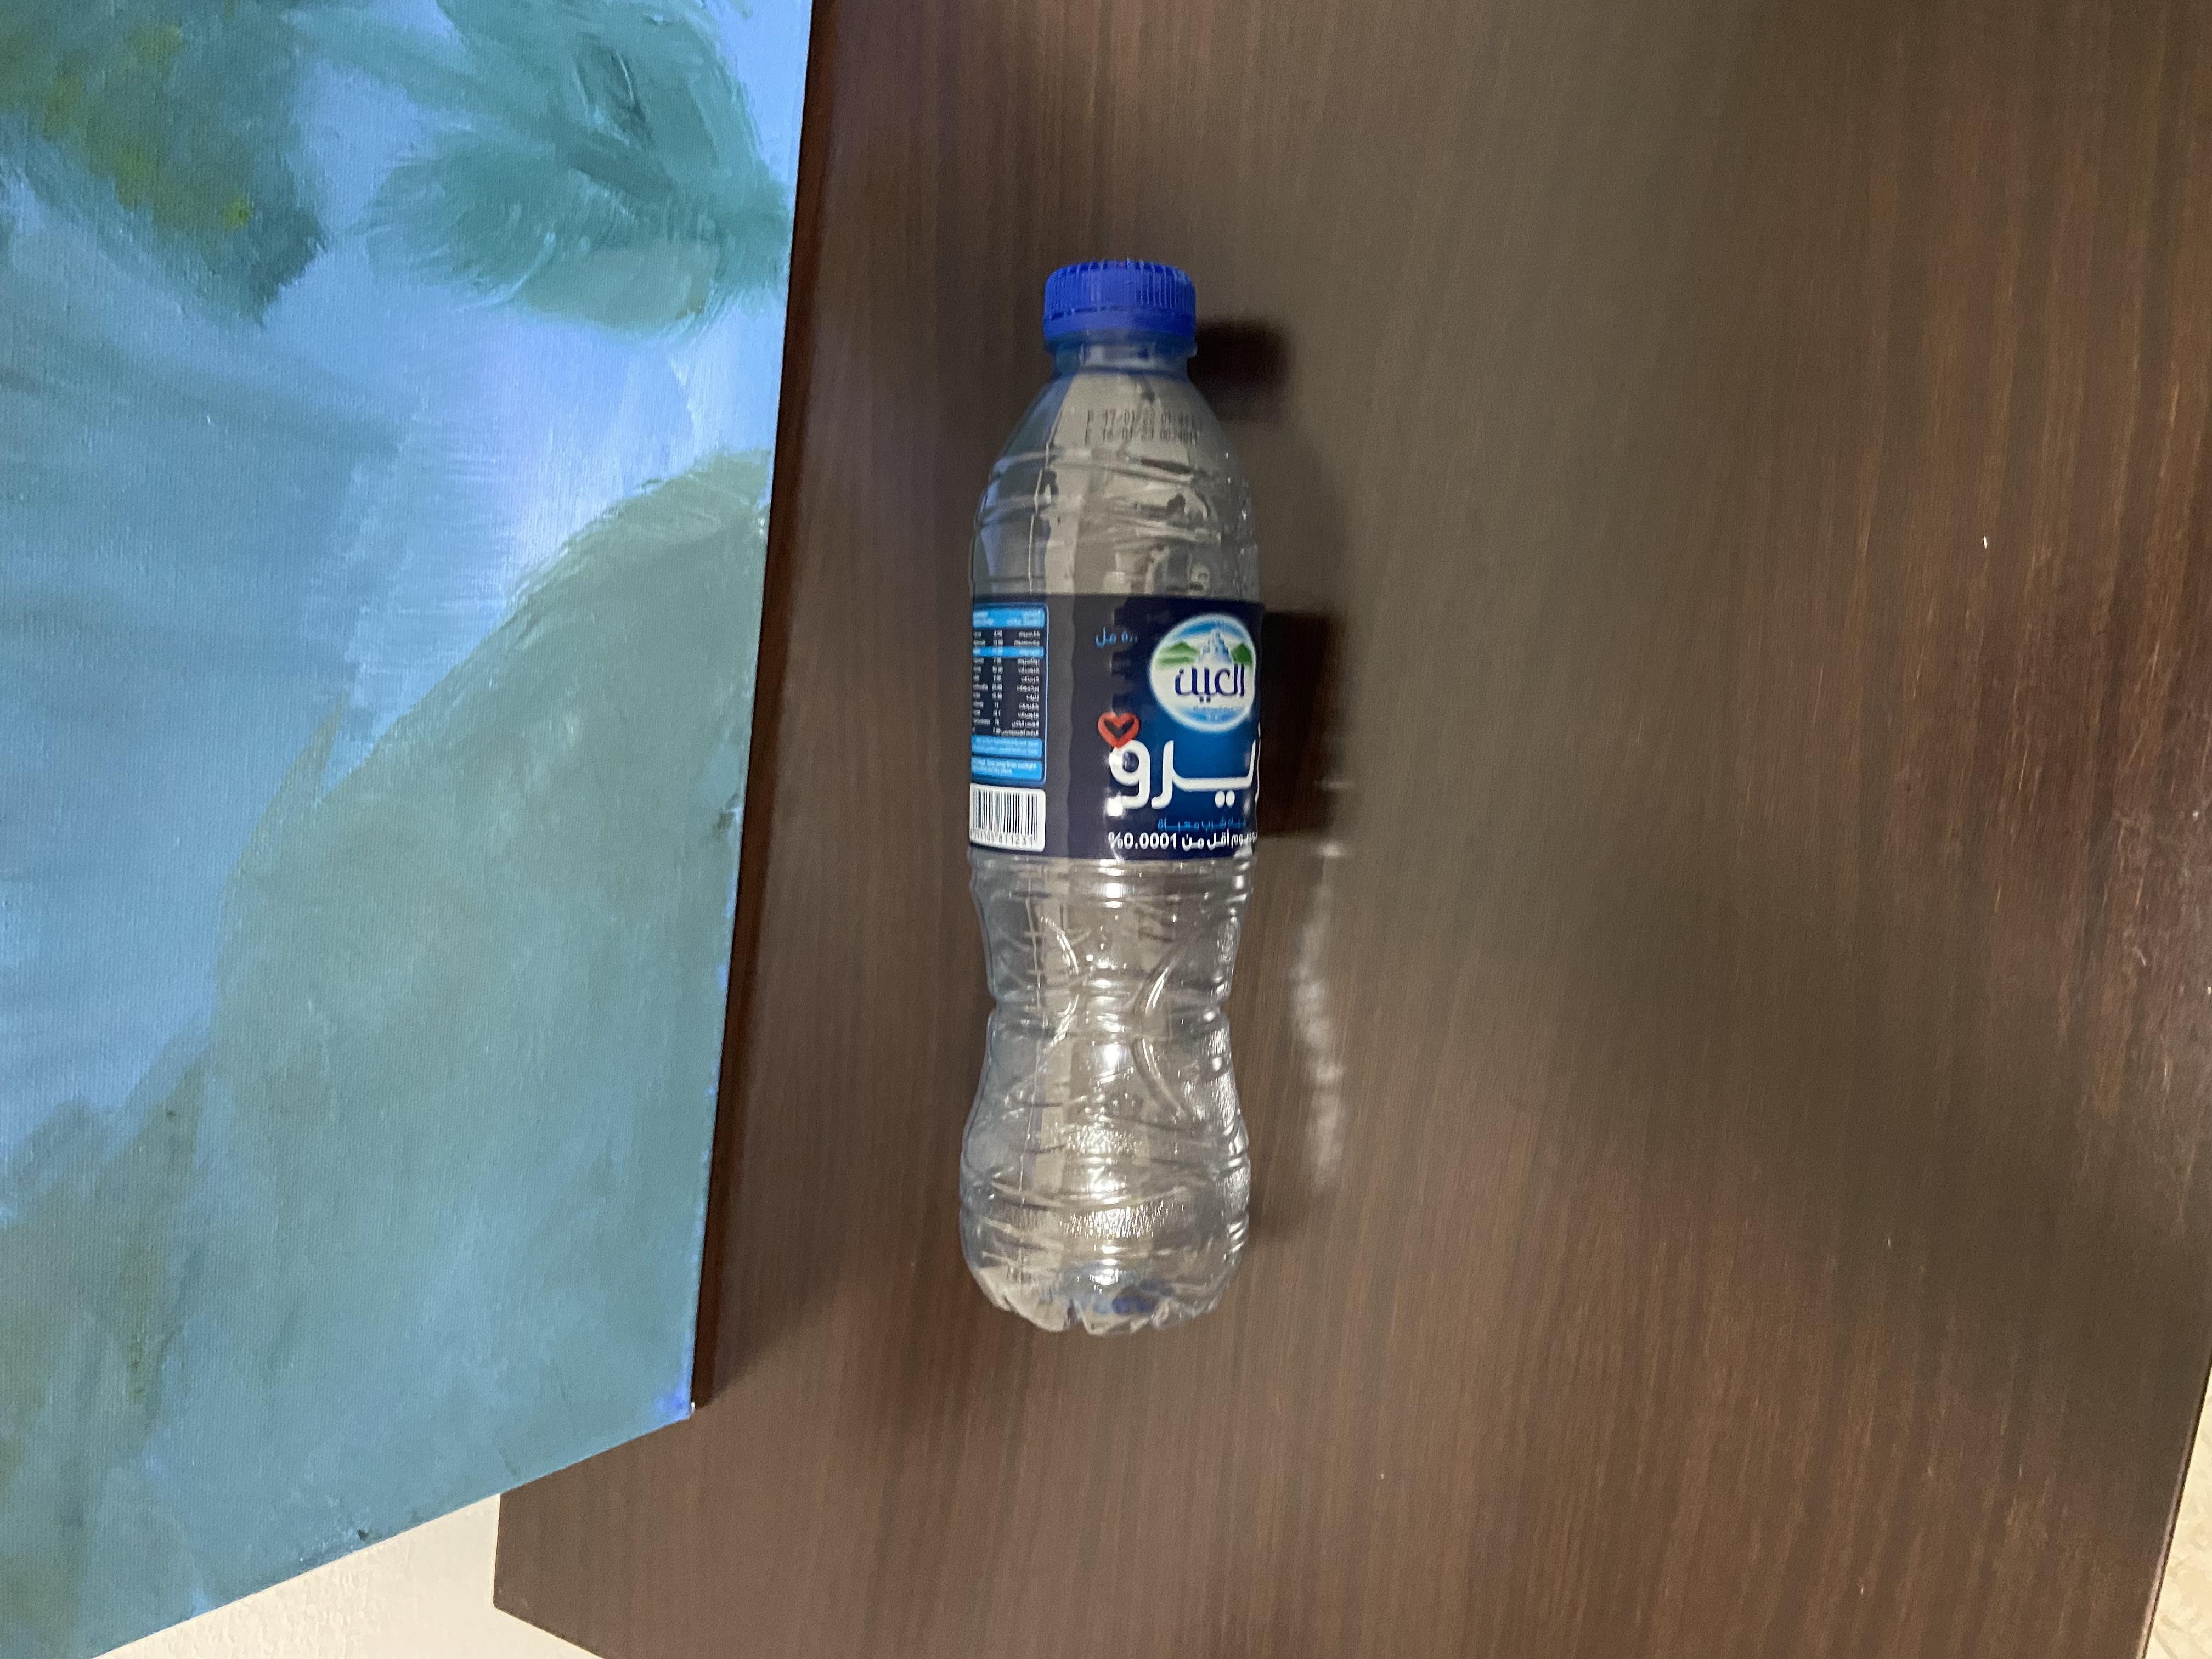bottle: (413, 721, 1912, 964)
